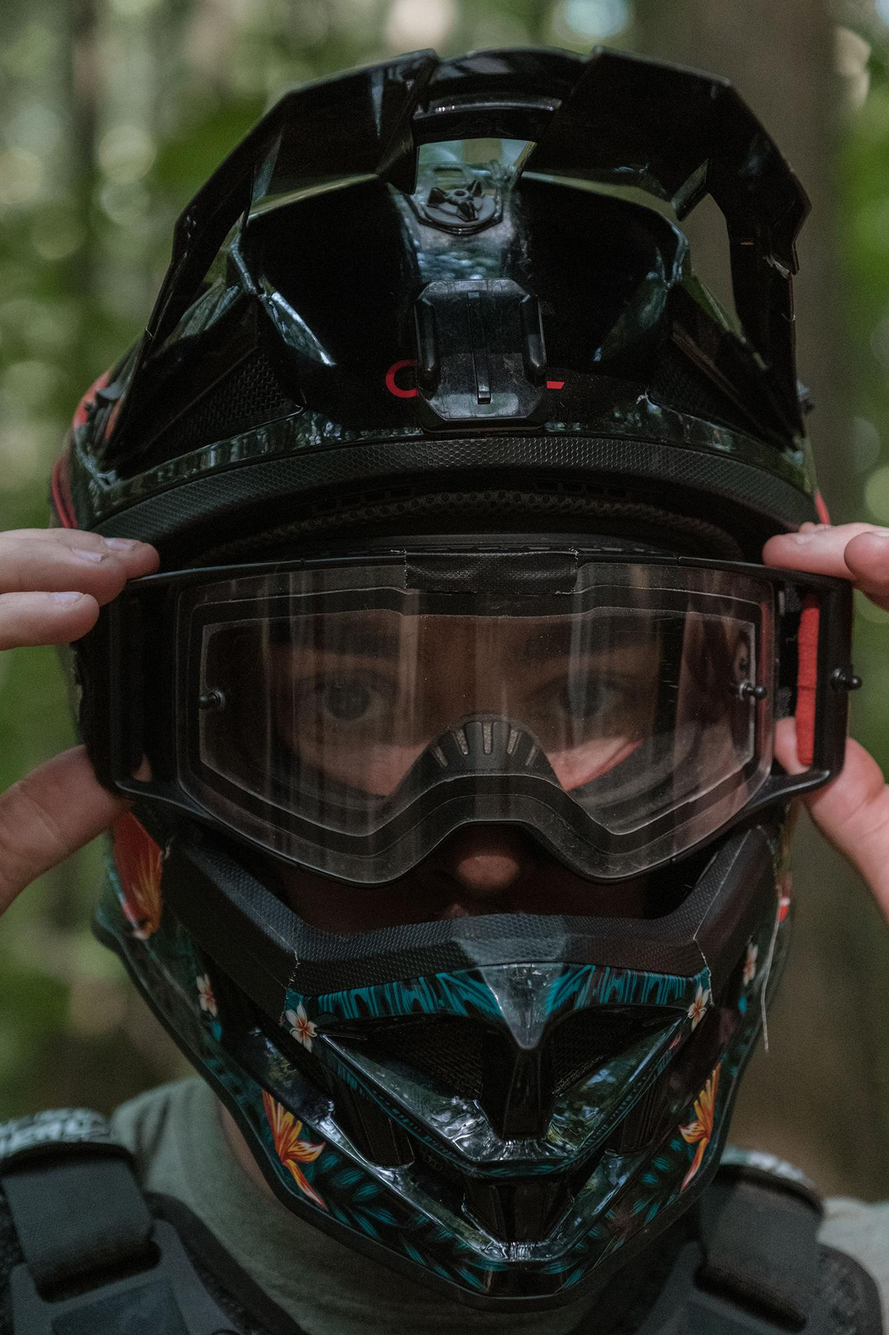helmet: (48, 39, 868, 1320)
